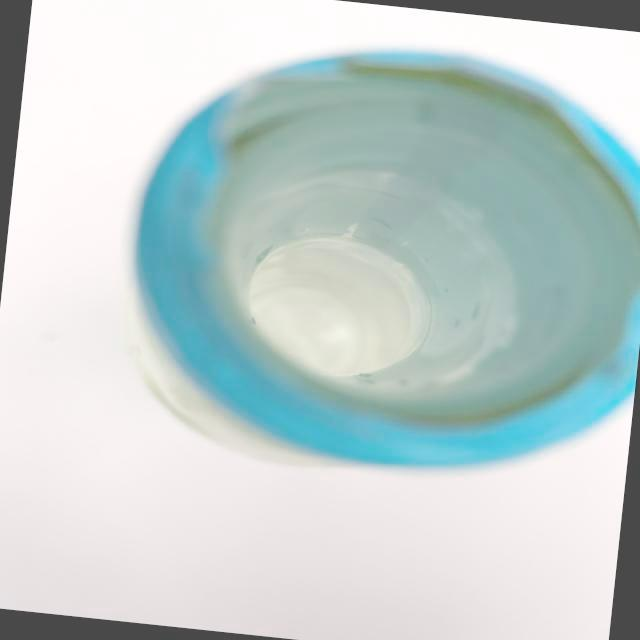glass: (79, 0, 640, 523)
